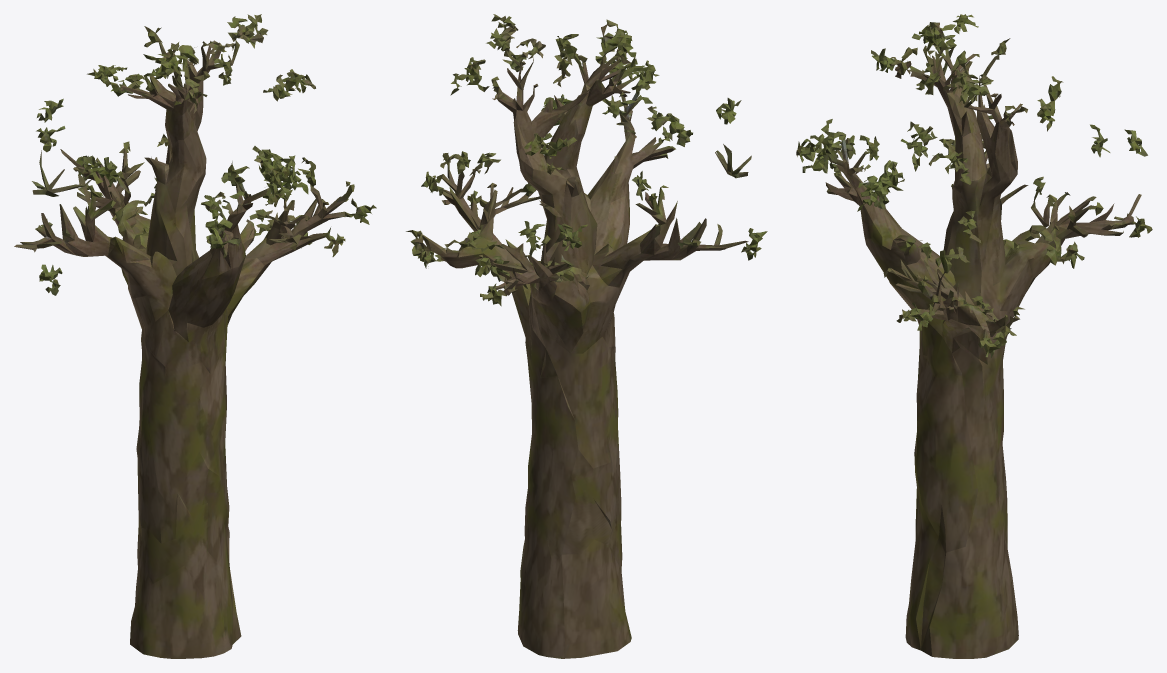
File: roofTree.glb
The picture shows the model from 3 angles, left to right: view 1: azimuth 30°, elevation 25°; view 2: azimuth 150°, elevation 25°; view 3: azimuth 270°, elevation 25°; orthographic projection.
Size of the model in its own units: 1.1 by 1.87 by 0.9963.
1 material, 1 textured.
